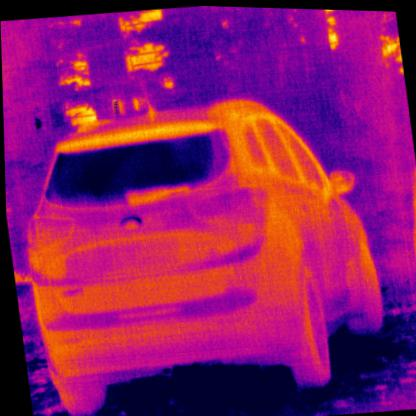vehicle: (7, 76, 392, 415)
